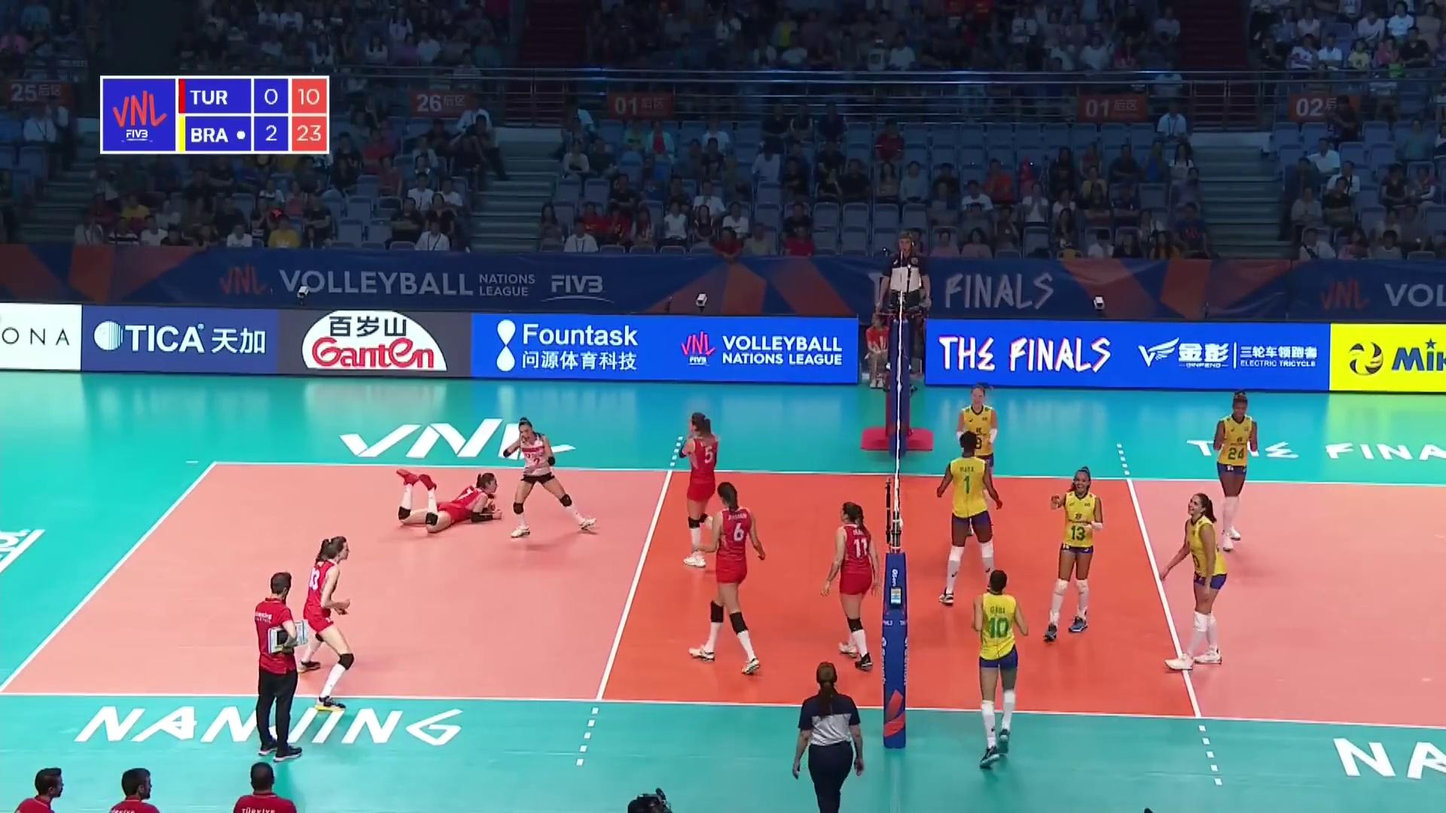player: (687, 482, 773, 669), (1162, 495, 1231, 666), (815, 503, 884, 671), (494, 419, 591, 537), (293, 533, 355, 714), (1046, 465, 1107, 642), (940, 434, 1002, 608), (970, 577, 1022, 768), (679, 416, 738, 575), (1209, 389, 1263, 554), (391, 469, 508, 535), (955, 381, 1003, 533)
refree: (793, 668, 862, 810), (877, 232, 933, 375)
